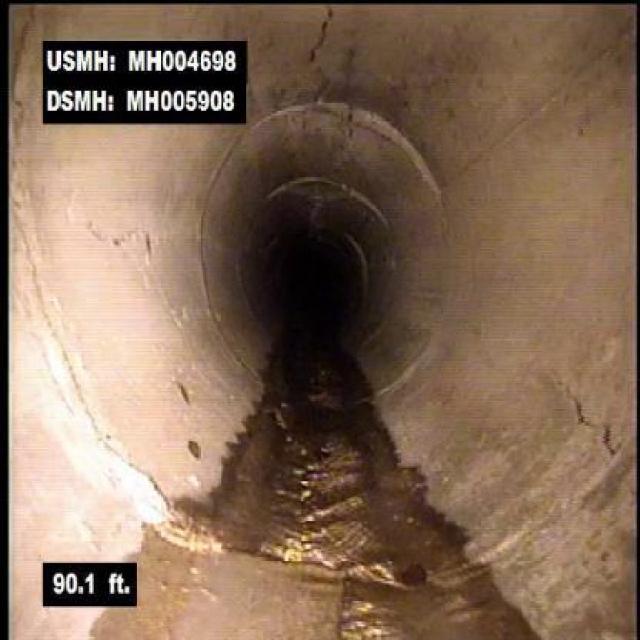Crack: (562, 375, 623, 463), (303, 8, 339, 69), (85, 223, 152, 251)
